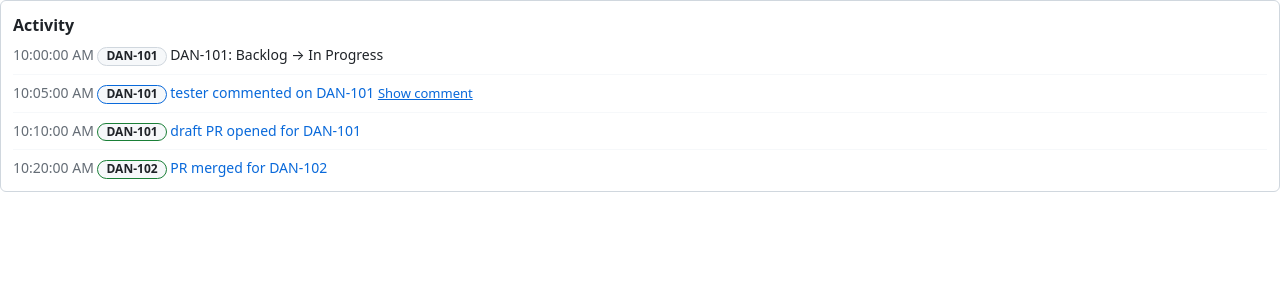
Test: DAN-84 comment expand/collapse › hides the body behind a real button with aria-expanded, and renders it as DAN-79 markdown when opened
This screenshot has width=1280, height=302.
Expected: the text "green" is not shown
Click the button "Show comment": (425, 93) top-left (378, 84), bottom-right (473, 102)
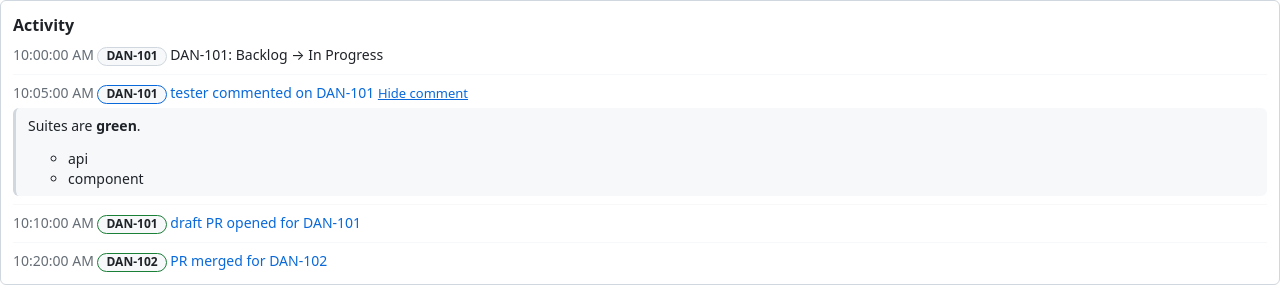
Now the button named "Show comment" is expanded
Now the button named "Show comment" reads "Hide comment"
Click the button named "Show comment": (423, 93) top-left (378, 84), bottom-right (468, 102)
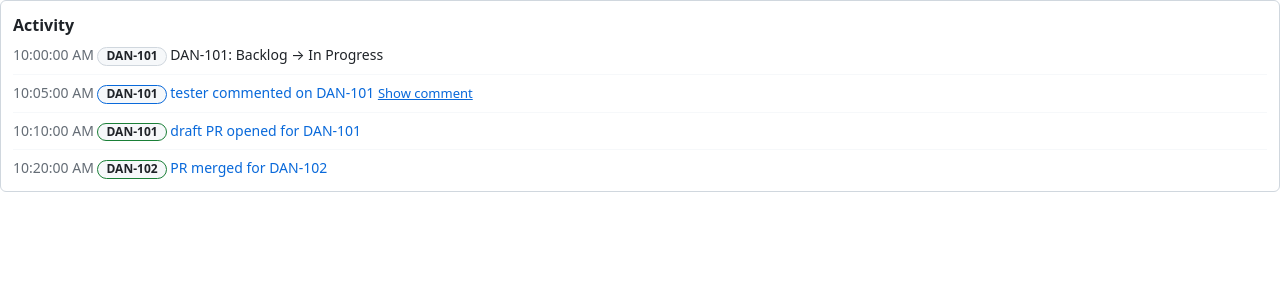
Now the button "Show comment" is collapsed, box top-left (378, 84), bottom-right (473, 102)
Now the text "green" is gone
